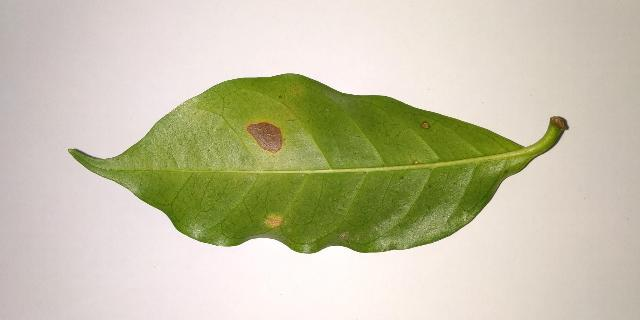miner: (244, 118, 285, 154), (265, 215, 283, 228)
